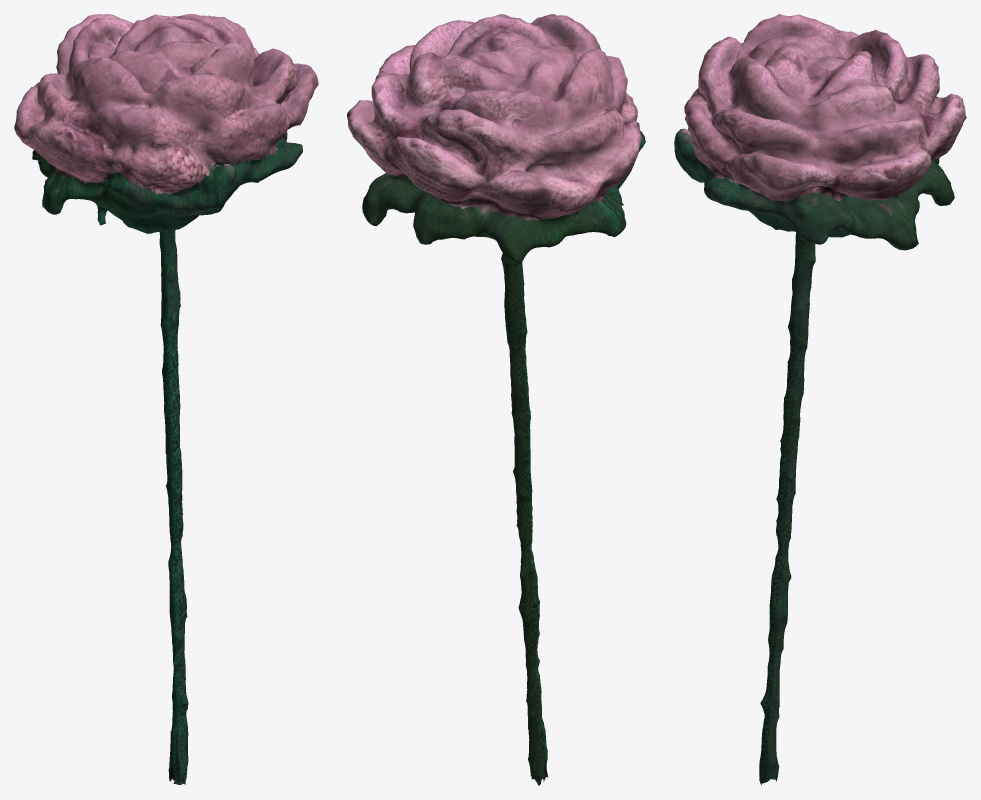
The model's file is rose.glb.
3 renders of one model, left to right at view 1: azimuth 30°, elevation 25°; view 2: azimuth 150°, elevation 25°; view 3: azimuth 270°, elevation 25°, orthographic. The views are drawn at different scales.
Parts seen in each view (by area): view 1: Rose_Petal, Rose_Stem; view 2: Rose_Petal, Rose_Stem; view 3: Rose_Petal, Rose_Stem.
Part boxes in pixels (box(x1,y1,x2,y2)): Rose_Petal: box(14, 14, 318, 194); Rose_Stem: box(32, 30, 302, 784); Rose_Petal: box(347, 14, 641, 220); Rose_Stem: box(362, 57, 645, 785); Rose_Petal: box(684, 14, 966, 201); Rose_Stem: box(674, 14, 954, 785).
Size of the model in its own units: 1.61 by 4.31 by 1.54.
1 material, 1 textured.
